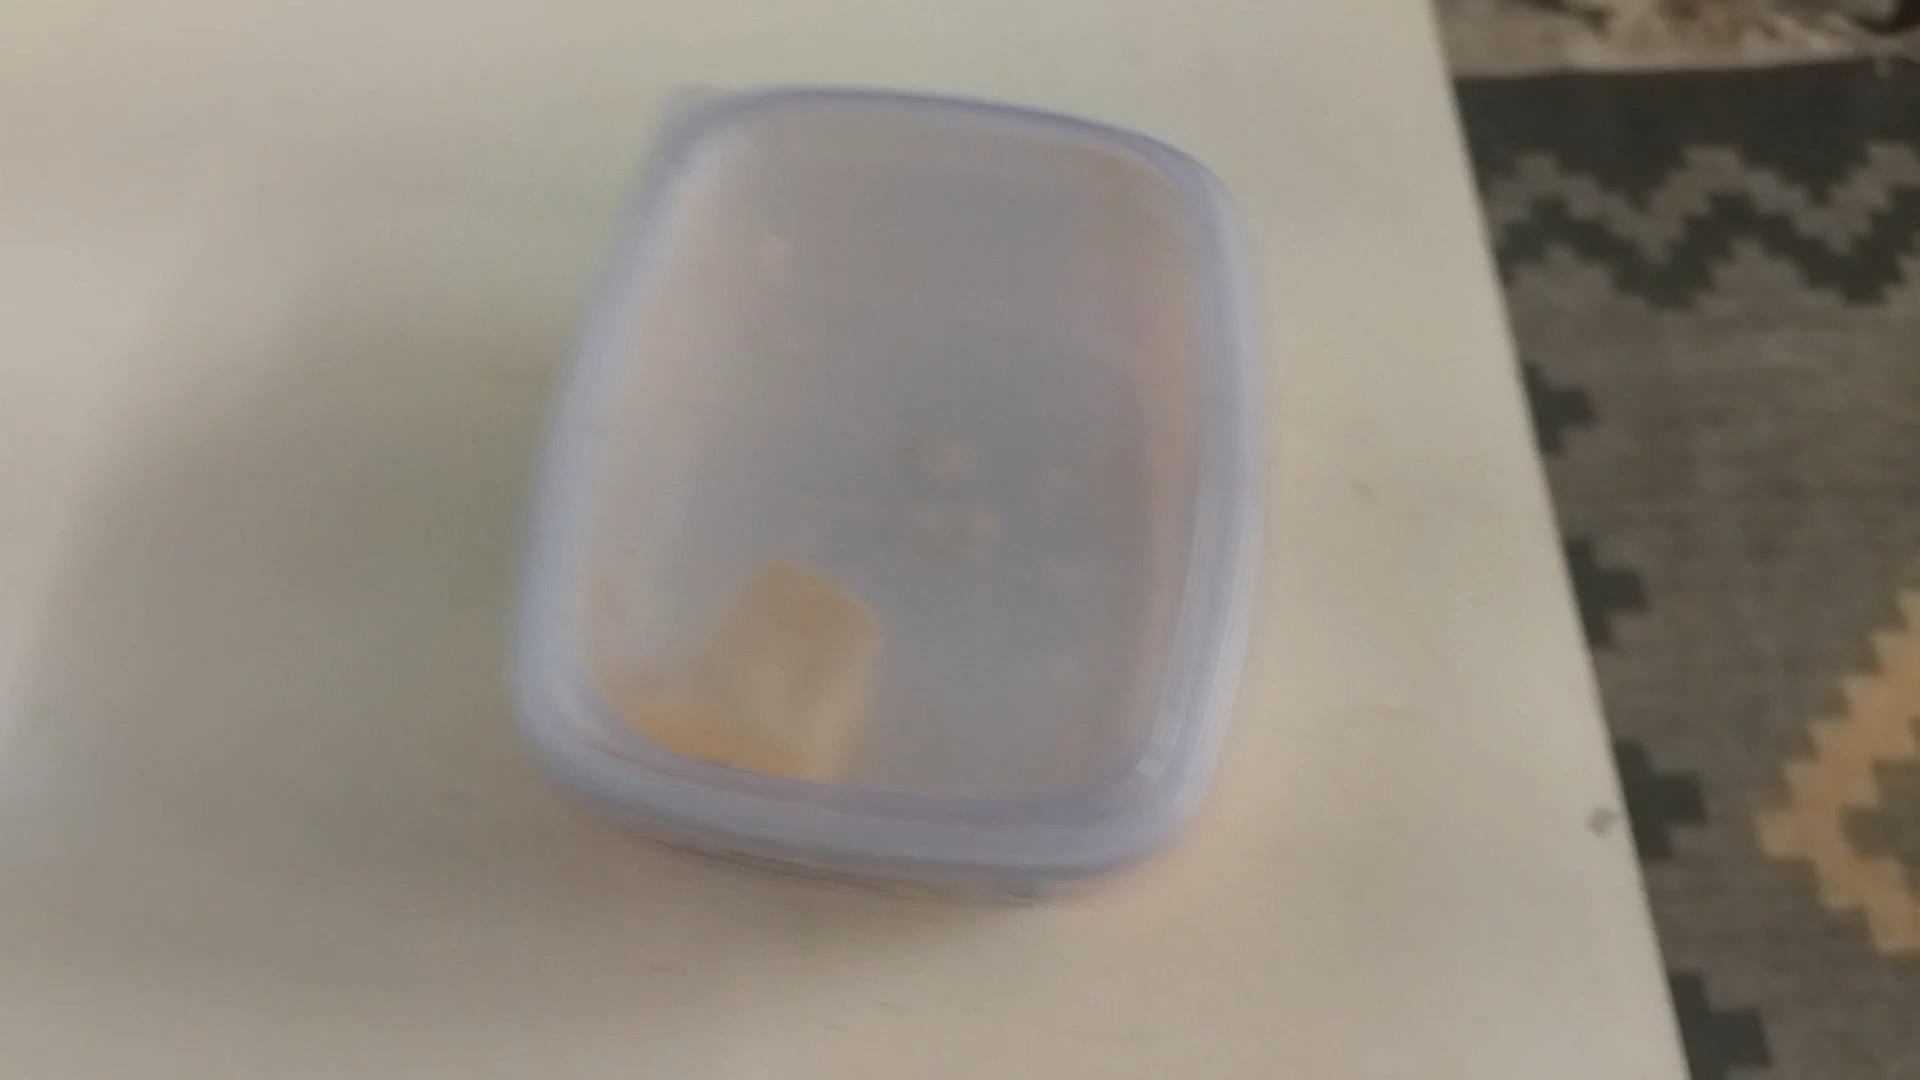butter: (516, 94, 1261, 907)
